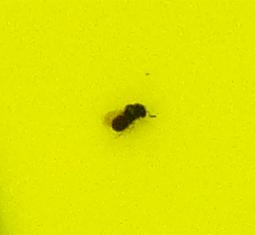Hymenoptera: (100, 100, 155, 135)
